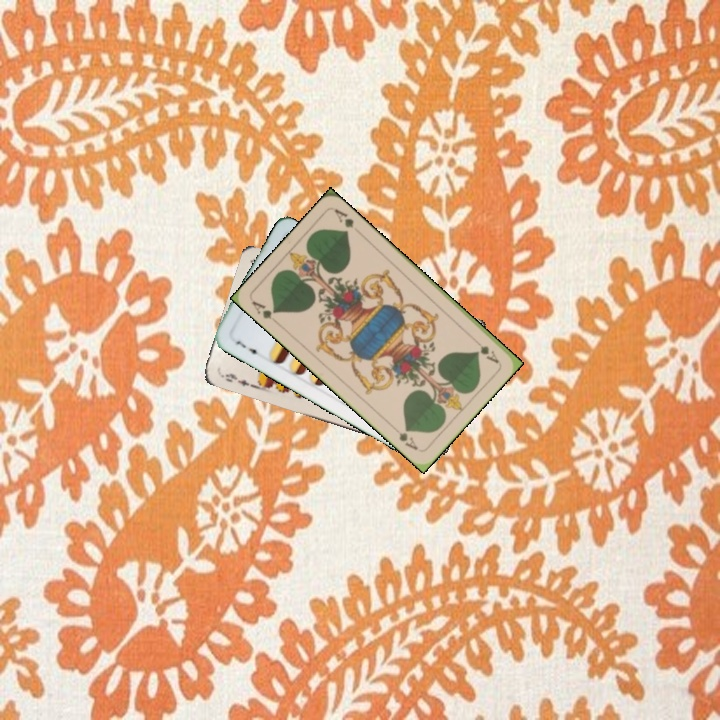E7: (231, 336, 263, 360)
E9: (216, 369, 256, 389)
GA: (469, 334, 502, 366), (247, 296, 281, 327)
